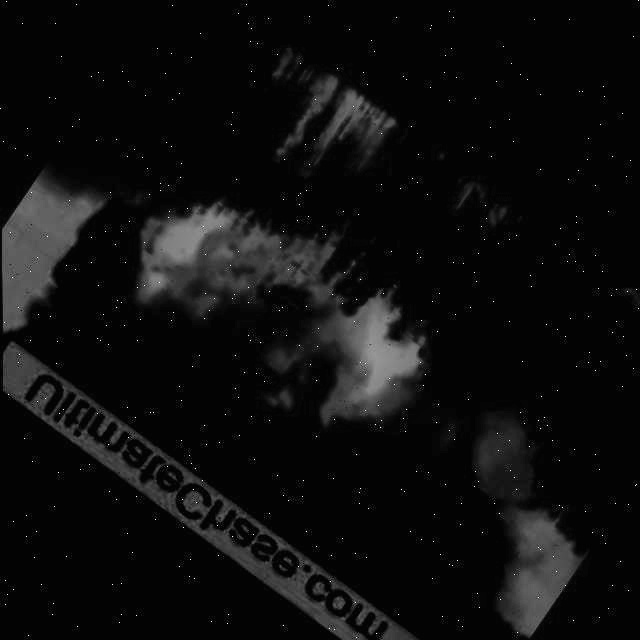Fire: (96, 16, 530, 486), (598, 261, 640, 338), (607, 265, 640, 335)
Smoke: (3, 239, 553, 640), (2, 376, 464, 640)
